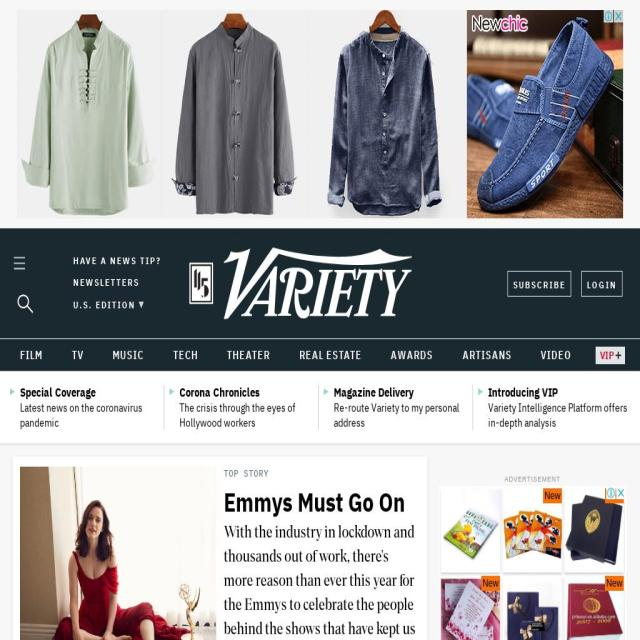button: (20, 466, 216, 640), (222, 248, 414, 319), (68, 252, 166, 270), (68, 274, 166, 292), (508, 270, 572, 297), (582, 270, 622, 297), (13, 285, 38, 322), (590, 346, 630, 364), (13, 245, 33, 279)
heading: (222, 248, 414, 319), (224, 487, 420, 518), (179, 385, 260, 400), (334, 385, 414, 400), (20, 385, 96, 400), (488, 385, 558, 400)
iframe: (17, 10, 623, 218), (439, 486, 626, 640)
image: (20, 466, 216, 640), (189, 221, 213, 346), (595, 346, 625, 364), (18, 293, 33, 314), (13, 252, 25, 272)
link: (600, 348, 614, 362)
text: (224, 521, 420, 640), (488, 400, 628, 430), (20, 400, 159, 430), (333, 400, 468, 430), (179, 400, 313, 430), (224, 466, 420, 486), (299, 347, 362, 362), (73, 298, 136, 312), (462, 347, 512, 362), (513, 277, 566, 291), (227, 347, 271, 362), (391, 347, 434, 362), (112, 347, 144, 362), (540, 347, 572, 362), (587, 277, 617, 291), (173, 347, 198, 362), (20, 347, 42, 362), (71, 347, 84, 362)
